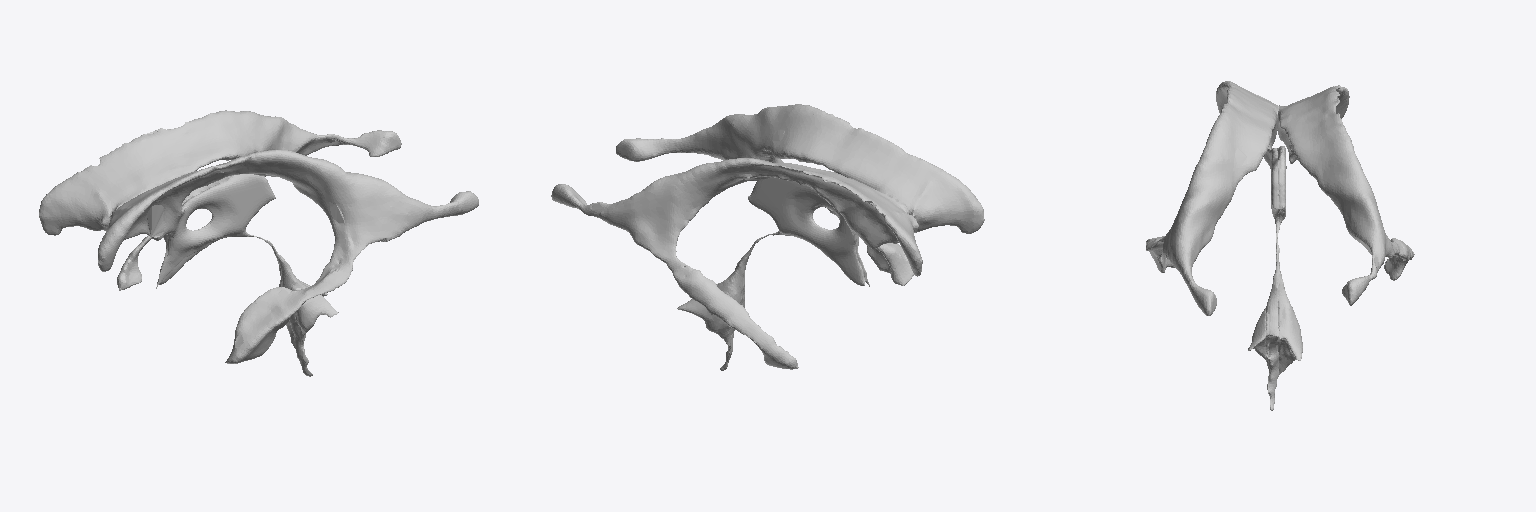
Rendered from Ventricles.obj.
The picture shows the model from 3 angles: view 1: azimuth 30°, elevation 25°; view 2: azimuth 150°, elevation 25°; view 3: azimuth 270°, elevation 25°; orthographic projection.
Parts seen in each view (by area): view 1: Ventricles_ventricles; view 2: Ventricles_ventricles; view 3: Ventricles_ventricles.
Boxes of the visible parts, <box> form: Ventricles_ventricles: <box>39,110,478,376</box>; Ventricles_ventricles: <box>551,104,984,370</box>; Ventricles_ventricles: <box>1146,81,1414,410</box>.
Bounding box in the file's own units: 170 × 113 × 106.